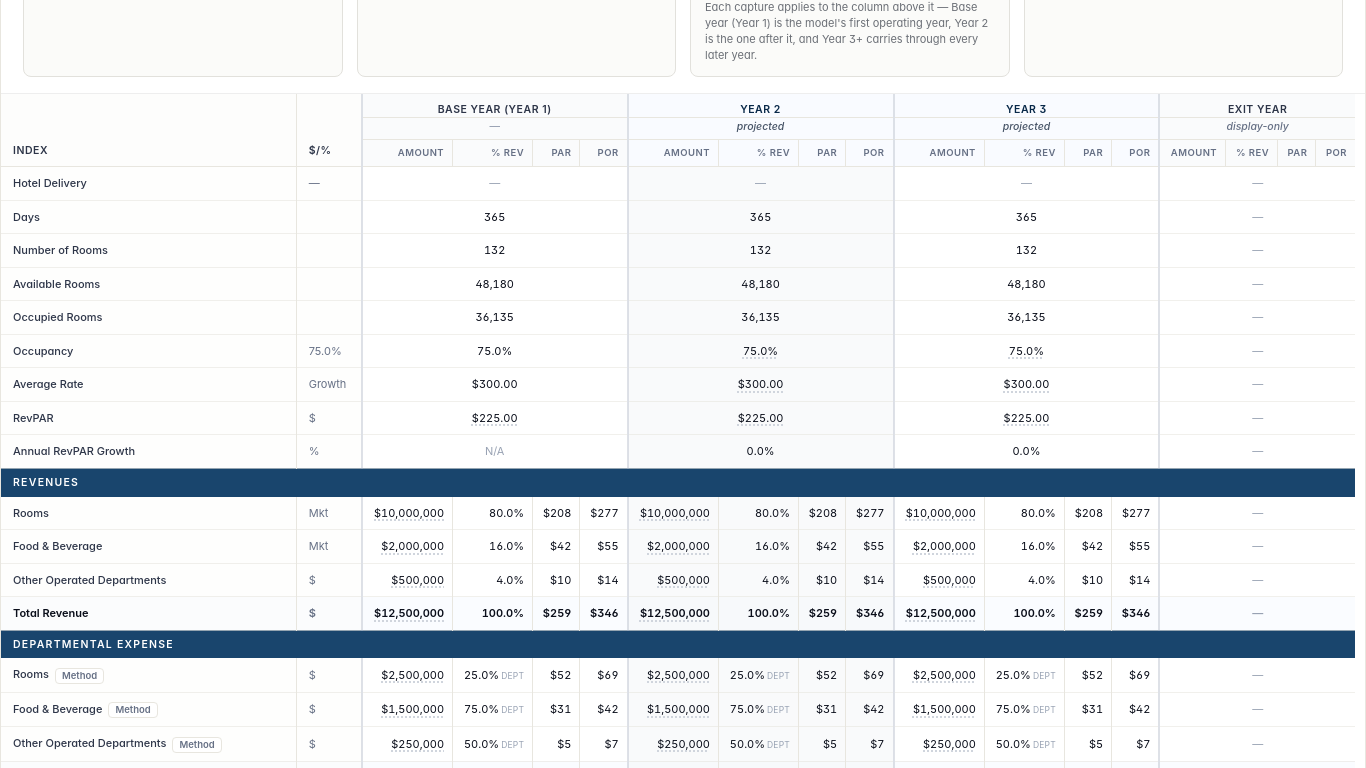
Scenario: P&L · Future P&L — click-through to the lineage drawer (E-015) › a cell the lineage record does not cover opens the drawer saying "No trace available for this cell." — no invented formula
The image size is (1366, 768).
(page scrolled)
Click the button with class "adr" at (761, 385), box [736,376,785,393]
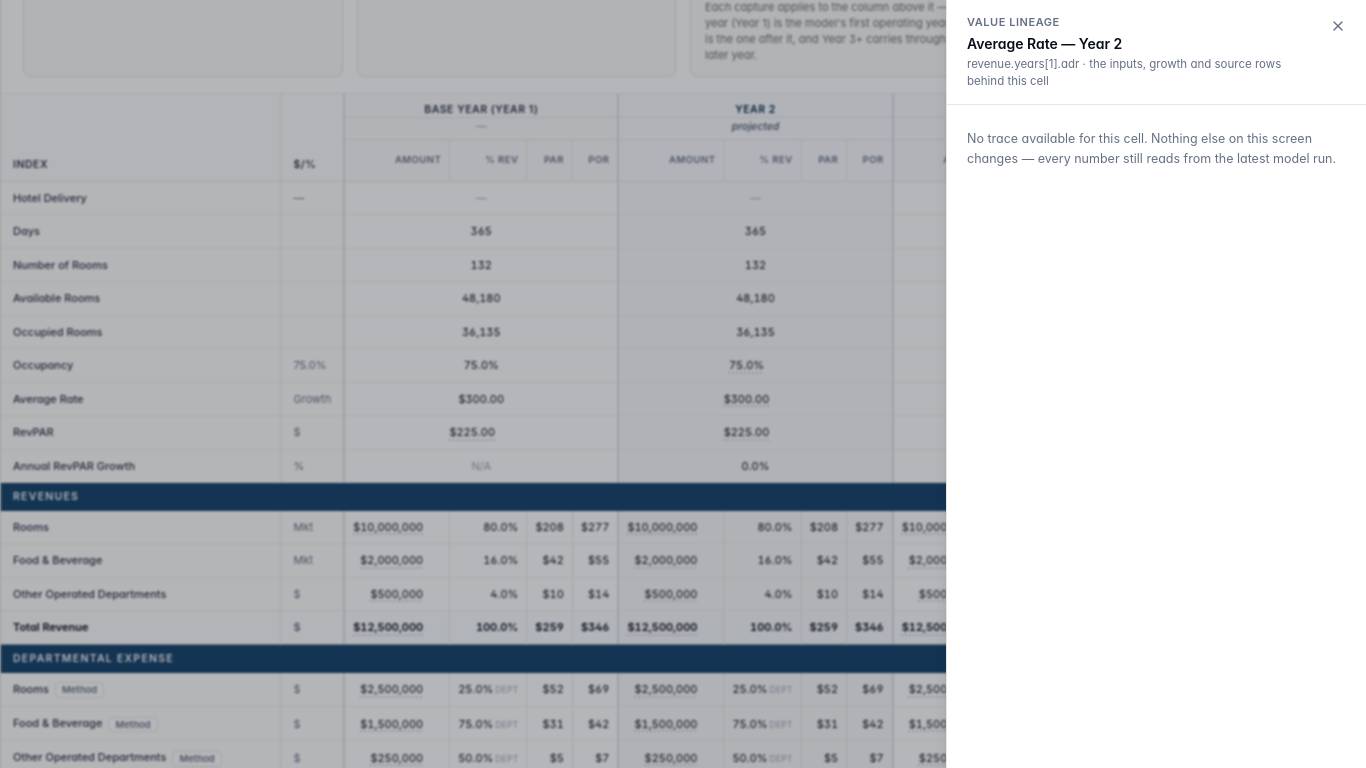
Expected: the heading reads "Average Rate — Year 2", [967,34,1122,52]
Expected: the text with test id "lineage-subtitle" shows "revenue.years[1].adr", [967,56,1281,88]
Expected: the text with test id "lineage-empty" shows "No trace available for this cell.", [967,131,1148,146]
